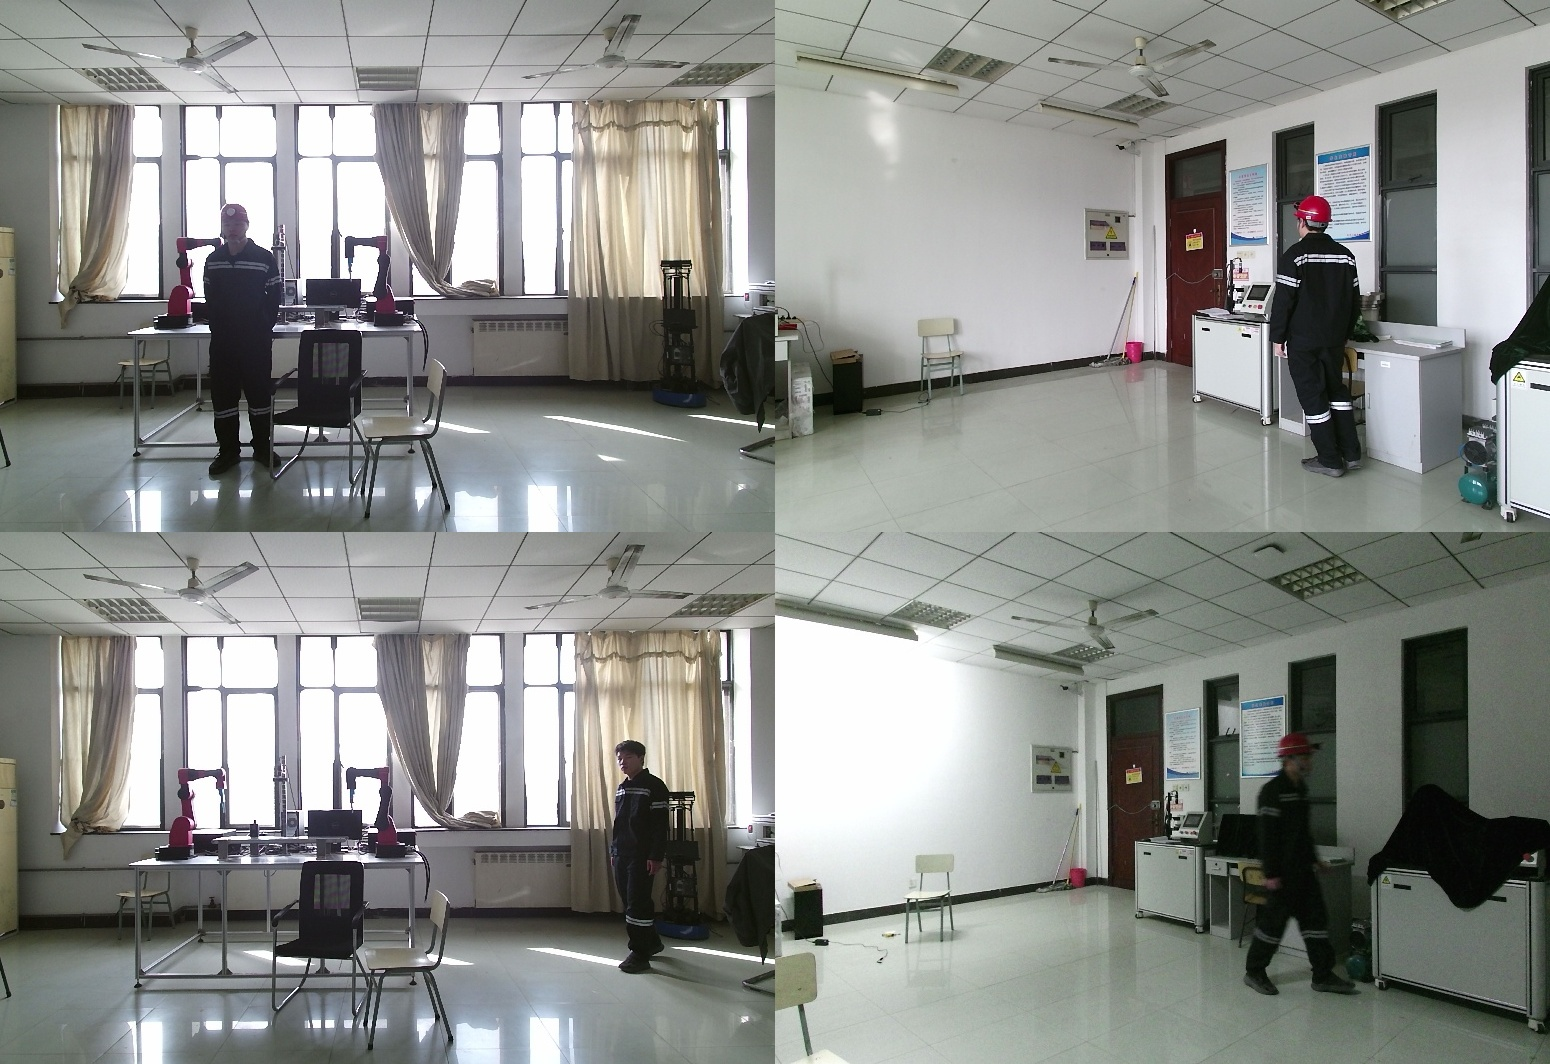person: (1239, 734, 1361, 995), (1273, 194, 1371, 474), (204, 205, 289, 478), (616, 742, 683, 977)
